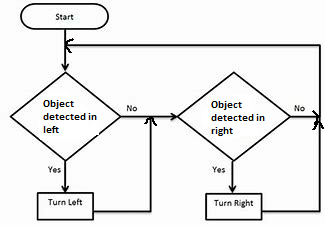arrow: (66, 37, 323, 122), (93, 117, 157, 215), (260, 121, 322, 214), (119, 112, 180, 122), (288, 110, 322, 125), (60, 27, 71, 72), (60, 158, 70, 193), (229, 158, 237, 194)
decision: (175, 70, 293, 164), (9, 71, 122, 163)
process: (36, 190, 95, 222), (204, 191, 264, 222)
terminator: (19, 2, 110, 31)
text: (211, 98, 265, 137), (42, 99, 98, 135), (214, 198, 254, 209), (47, 198, 84, 207), (54, 11, 75, 21), (211, 165, 226, 174), (46, 165, 62, 173), (125, 103, 138, 112), (293, 104, 306, 112)
